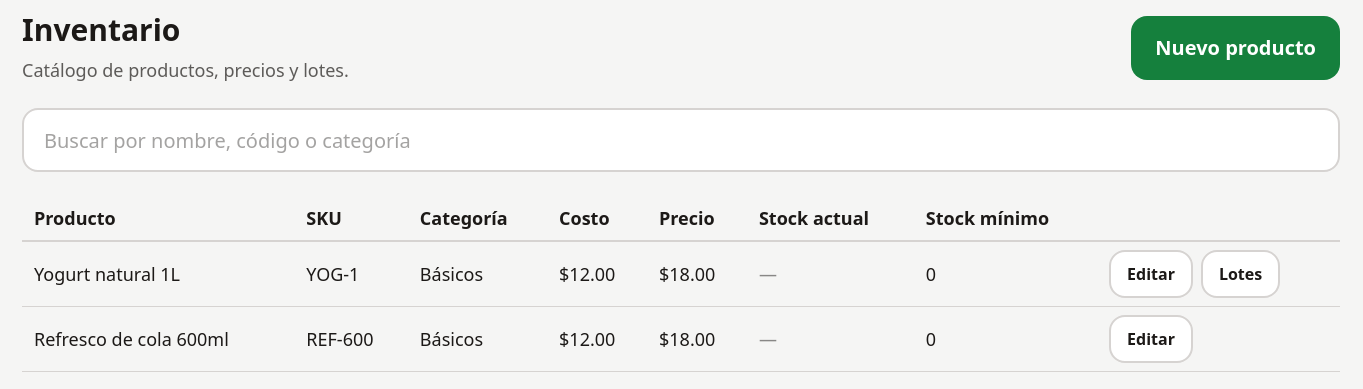
Test: InventoryScreen › el buscador filtra por nombre, sku o categoría
expect the text "Yogurt natural 1L" is shown: met, box x1=22 y1=241 x2=294 y2=306
In the field labelled "Buscar por nombre, código o categoría": (681, 140) x1=22 y1=108 x2=1340 y2=172, type "yogurt"
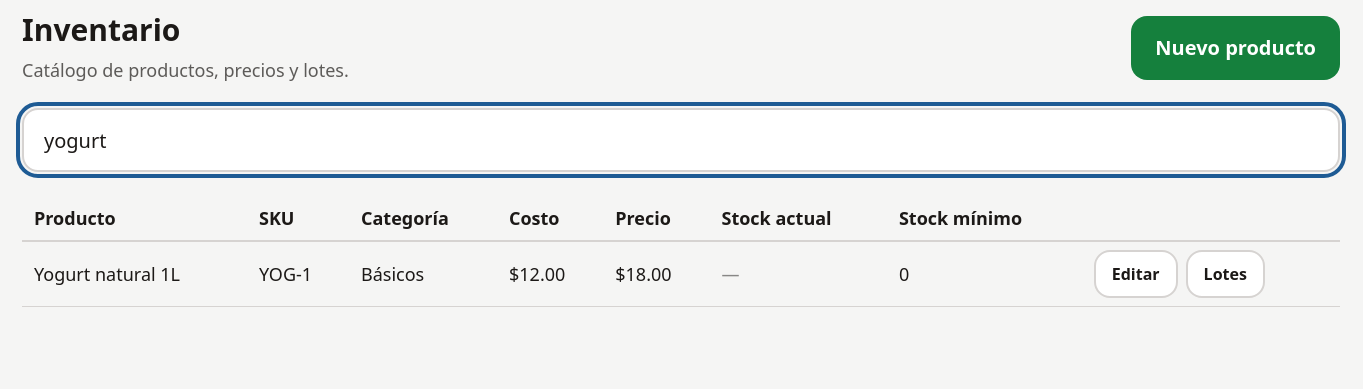
expect the text "Yogurt natural 1L" is shown: met, box x1=22 y1=241 x2=247 y2=306
expect the text "Refresco de cola 600ml" is gone: met
